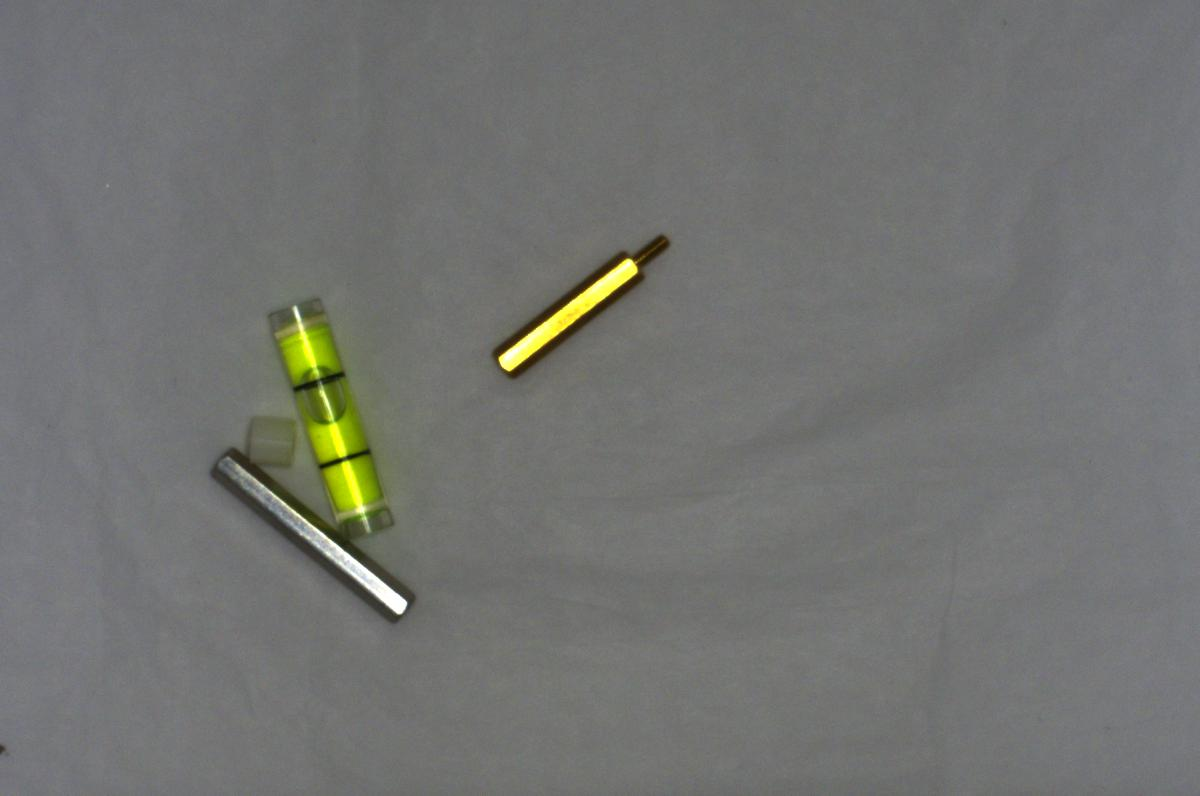Double hexagonal column: (208, 447, 426, 625)
Hexagon pillar: (475, 221, 680, 383)
Horizontal bubble: (270, 292, 401, 545)
Plastic cushion pillar: (234, 410, 301, 472)
